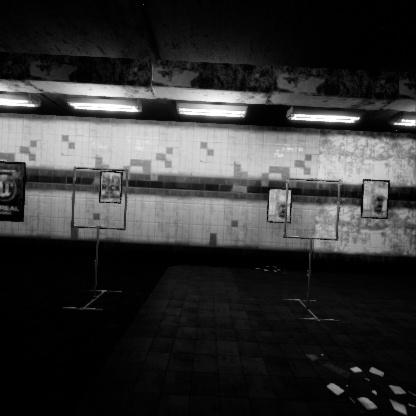gate: (284, 174, 346, 239), (71, 185, 133, 249)
